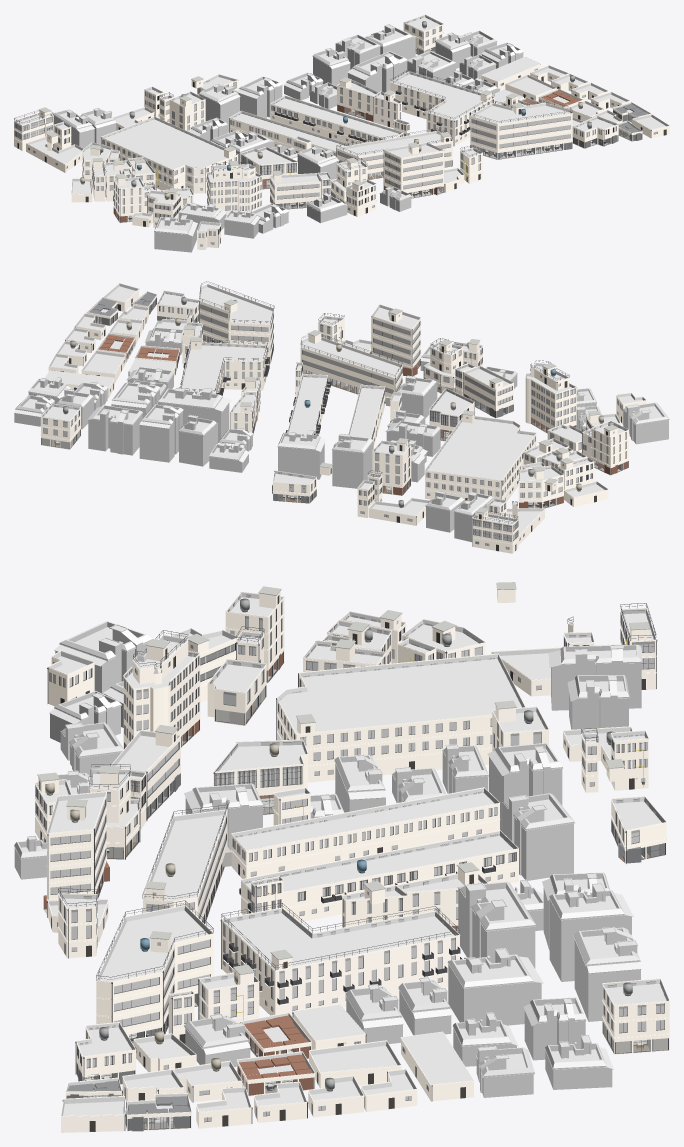
The picture shows the model from 3 angles, top to bottom: view 1: azimuth 30°, elevation 25°; view 2: azimuth 150°, elevation 25°; view 3: azimuth 270°, elevation 25°; orthographic projection. The views are drawn at different scales.
Parts seen in each view (by area): view 1: 서울특별시 성동구 성수동2가 571-1, 서울특별시 성동구 성수동2가 573-7.001, 서울특별시 성동구 성수동2가 573-4, 서울특별시 성동구 성수동2가 572-7, 서울특별시 성동구 성수동2가 574-3, 서울특별시 성동구 성수동2가 574-15, 서울특별시 성동구 성수동2가 572-8, 서울특별시 성동구 성수동2가 572-7.001, 서울특별시 성동구 성수동2가 574-11, 서울특별시 성동구 성수동2가 573-1, 서울특별시 성동구 성수동2가 580-1, 서울특별시 성동구 성수동2가 572-10 (+56 smaller); view 2: 서울특별시 성동구 성수동2가 571-1, 서울특별시 성동구 성수동2가 572-8, 서울특별시 성동구 성수동2가 573-4, 서울특별시 성동구 성수동2가 573-7.001, 서울특별시 성동구 성수동2가 574-15, 서울특별시 성동구 성수동2가 574-3, 서울특별시 성동구 성수동2가 224-2, 서울특별시 성동구 성수동2가 573-1.001, 서울특별시 성동구 성수동2가 572-3.001, 서울특별시 성동구 성수동2가 572-7, 서울특별시 성동구 성수동2가 573-1, 서울특별시 성동구 성수동2가 572-10 (+48 smaller); view 3: 서울특별시 성동구 성수동2가 571-1, 서울특별시 성동구 성수동2가 573-4, 서울특별시 성동구 성수동2가 572-7.001, 서울특별시 성동구 성수동2가 573-7.001, 서울특별시 성동구 성수동2가 572-7, 서울특별시 성동구 성수동2가 572-8, 서울특별시 성동구 성수동2가 574-15, 서울특별시 성동구 성수동2가 574-3, 서울특별시 성동구 성수동2가 224-6, 서울특별시 성동구 성수동2가 573-1, 서울특별시 성동구 성수동2가 572-10, 서울특별시 성동구 성수동2가 224-1 (+64 smaller).
Boxes of the visible parts, x1=… form: 서울특별시 성동구 성수동2가 571-1: x1=101, y1=116, x2=238, y2=193; 서울특별시 성동구 성수동2가 573-7.001: x1=470, y1=100, x2=572, y2=159; 서울특별시 성동구 성수동2가 573-4: x1=390, y1=69, x2=495, y2=146; 서울특별시 성동구 성수동2가 572-7: x1=270, y1=95, x2=403, y2=144; 서울특별시 성동구 성수동2가 574-3: x1=383, y1=142, x2=444, y2=198; 서울특별시 성동구 성수동2가 574-15: x1=206, y1=161, x2=262, y2=216; 서울특별시 성동구 성수동2가 572-8: x1=336, y1=128, x2=452, y2=179; 서울특별시 성동구 성수동2가 572-7.001: x1=229, y1=110, x2=351, y2=156; 서울특별시 성동구 성수동2가 574-11: x1=270, y1=173, x2=321, y2=209; 서울특별시 성동구 성수동2가 573-1: x1=347, y1=51, x2=407, y2=92; 서울특별시 성동구 성수동2가 580-1: x1=154, y1=214, x2=197, y2=252; 서울특별시 성동구 성수동2가 572-10: x1=236, y1=76, x2=282, y2=118; 서울특별시 성동구 성수동2가 571-1: x1=424, y1=416, x2=536, y2=500; 서울특별시 성동구 성수동2가 572-8: x1=300, y1=334, x2=402, y2=406; 서울특별시 성동구 성수동2가 573-4: x1=179, y1=339, x2=269, y2=395; 서울특별시 성동구 성수동2가 573-7.001: x1=198, y1=281, x2=274, y2=364; 서울특별시 성동구 성수동2가 574-15: x1=525, y1=360, x2=576, y2=433; 서울특별시 성동구 성수동2가 574-3: x1=371, y1=304, x2=420, y2=376; 서울특별시 성동구 성수동2가 224-2: x1=87, y1=405, x2=142, y2=455; 서울특별시 성동구 성수동2가 573-1.001: x1=139, y1=404, x2=183, y2=462; 서울특별시 성동구 성수동2가 572-3.001: x1=332, y1=433, x2=373, y2=488; 서울특별시 성동구 성수동2가 572-7: x1=285, y1=374, x2=331, y2=437; 서울특별시 성동구 성수동2가 573-1: x1=157, y1=387, x2=230, y2=442; 서울특별시 성동구 성수동2가 572-10: x1=277, y1=430, x2=325, y2=479; 서울특별시 성동구 성수동2가 571-1: x1=276, y1=653, x2=525, y2=782; 서울특별시 성동구 성수동2가 573-4: x1=220, y1=903, x2=462, y2=1016; 서울특별시 성동구 성수동2가 572-7.001: x1=231, y1=787, x2=500, y2=878; 서울특별시 성동구 성수동2가 573-7.001: x1=96, y1=900, x2=213, y2=1044; 서울특별시 성동구 성수동2가 572-7: x1=239, y1=830, x2=518, y2=921; 서울특별시 성동구 성수동2가 572-8: x1=142, y1=804, x2=231, y2=924; 서울특별시 성동구 성수동2가 574-15: x1=123, y1=630, x2=200, y2=748; 서울특별시 성동구 성수동2가 574-3: x1=43, y1=791, x2=109, y2=916; 서울특별시 성동구 성수동2가 224-6: x1=447, y1=948, x2=543, y2=1026; 서울특별시 성동구 성수동2가 573-1: x1=457, y1=881, x2=536, y2=968; 서울특별시 성동구 성수동2가 572-10: x1=502, y1=793, x2=574, y2=880; 서울특별시 성동구 성수동2가 224-1: x1=602, y1=978, x2=669, y2=1054.
Bounding box in the file's own units: 209 × 20.42 × 118.
